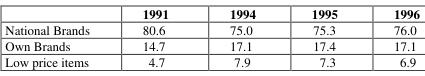table: (4, 4, 419, 69)
table column: (4, 4, 115, 69), (198, 4, 282, 69), (115, 4, 198, 69), (282, 4, 364, 69), (364, 4, 419, 69)
table column header: (4, 4, 419, 21)
table row: (4, 4, 419, 21), (4, 52, 419, 69), (4, 36, 419, 52), (4, 21, 419, 36)
